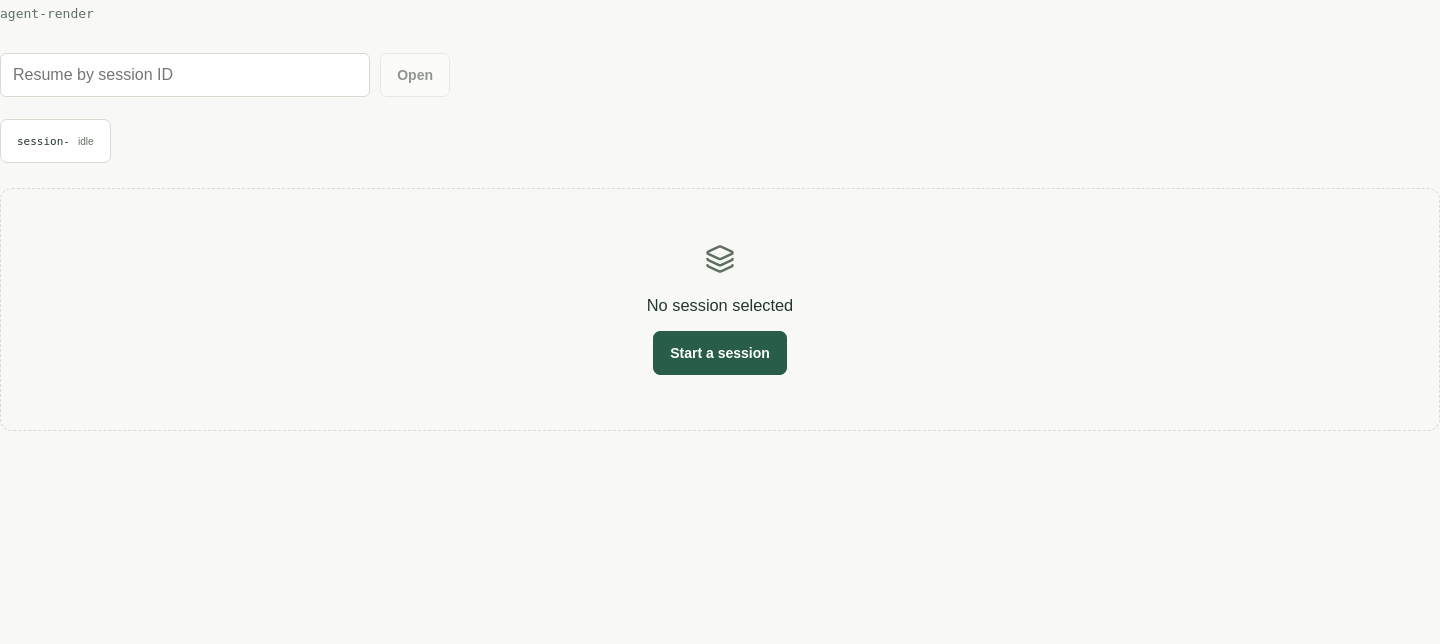
Test case: does not rerender stable source history for streamed text updates
The image size is (1440, 644).
Click the button "session- idle" at (55, 141), box [0,119,111,163]
(page scrolled)
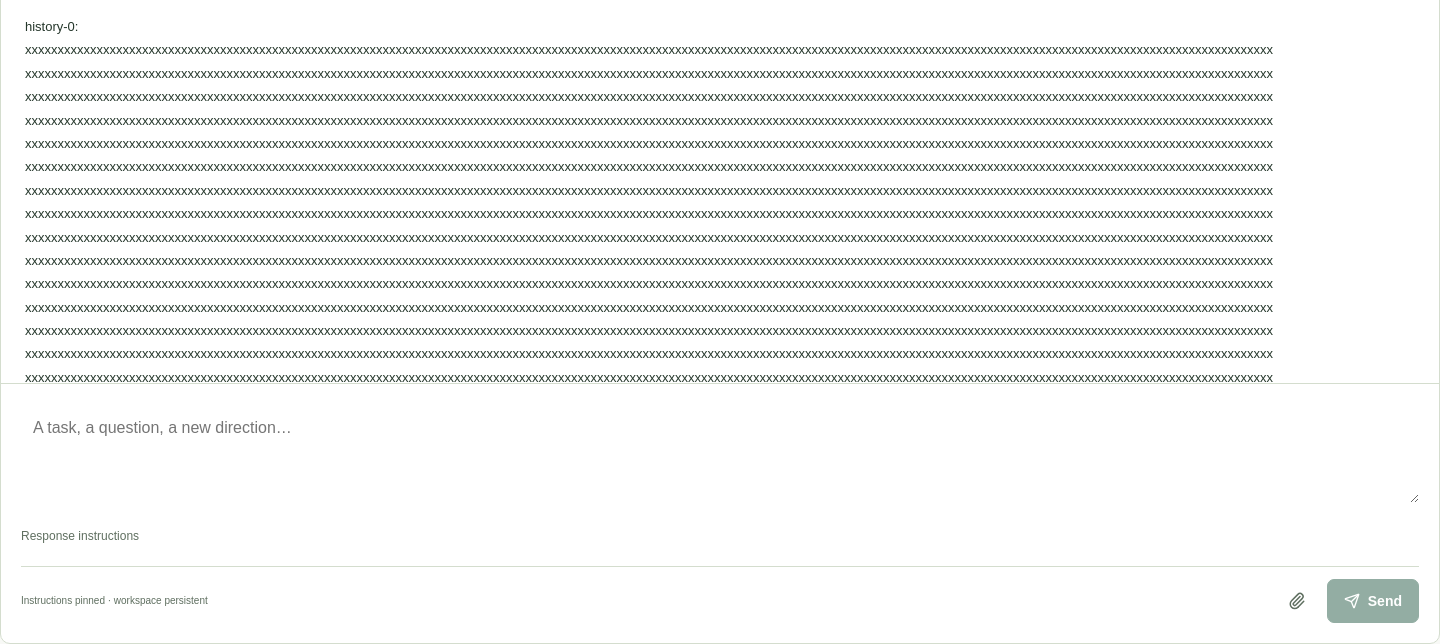
Type "Continue" into the text box named "Message or steering instruction" at (720, 454), box [21,404,1419,503]
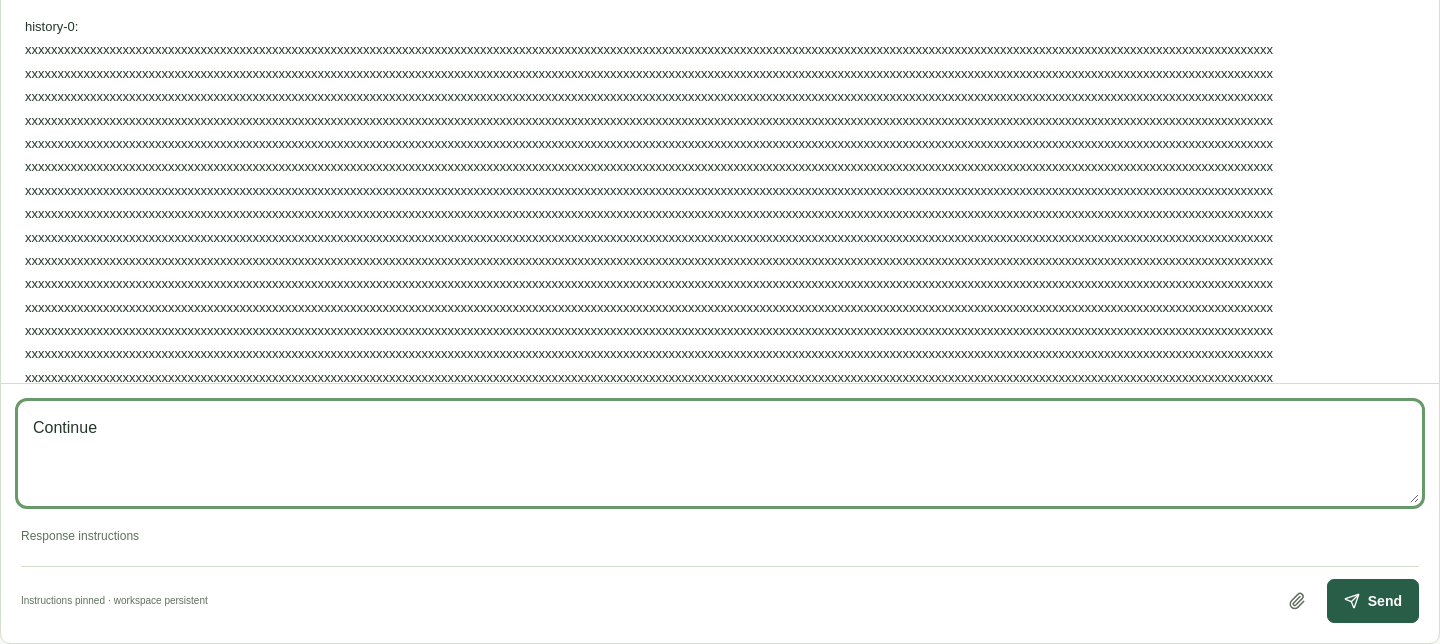
Click the button "Send" at (1373, 601), box [1327,579,1419,623]
(page scrolled)
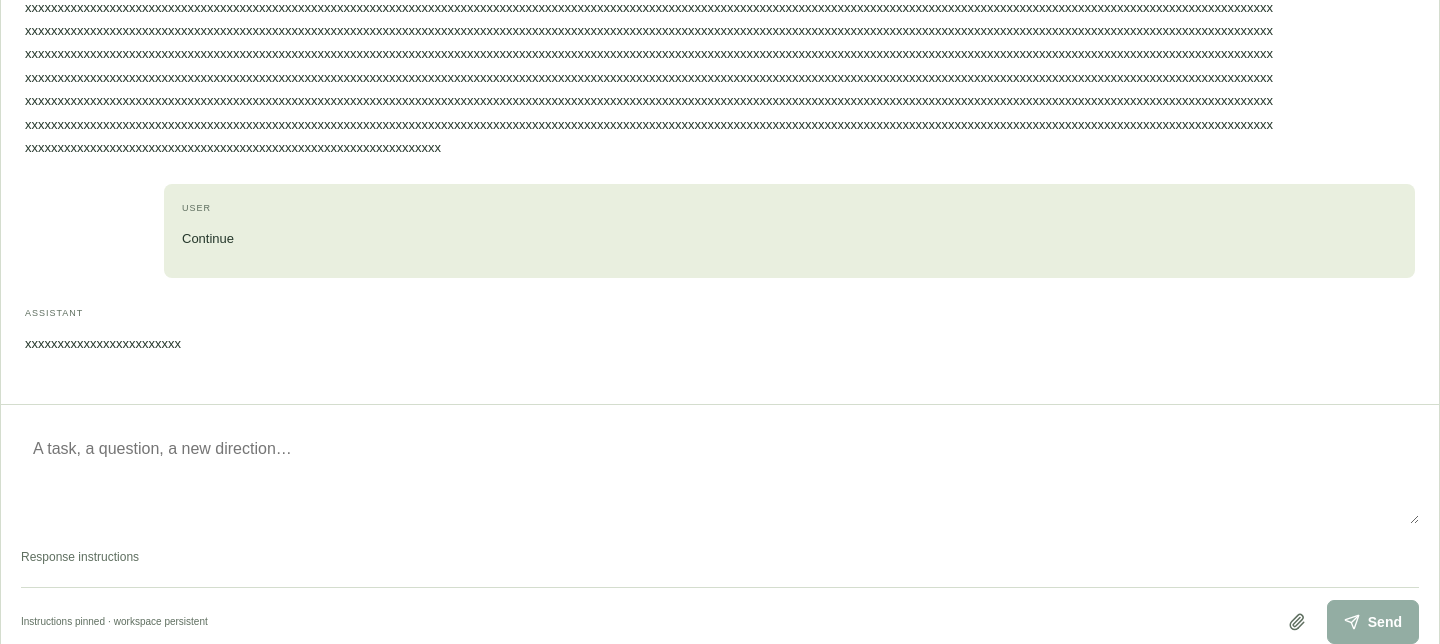
expect the text "Continue" is shown: met, box [182,231,234,246]
